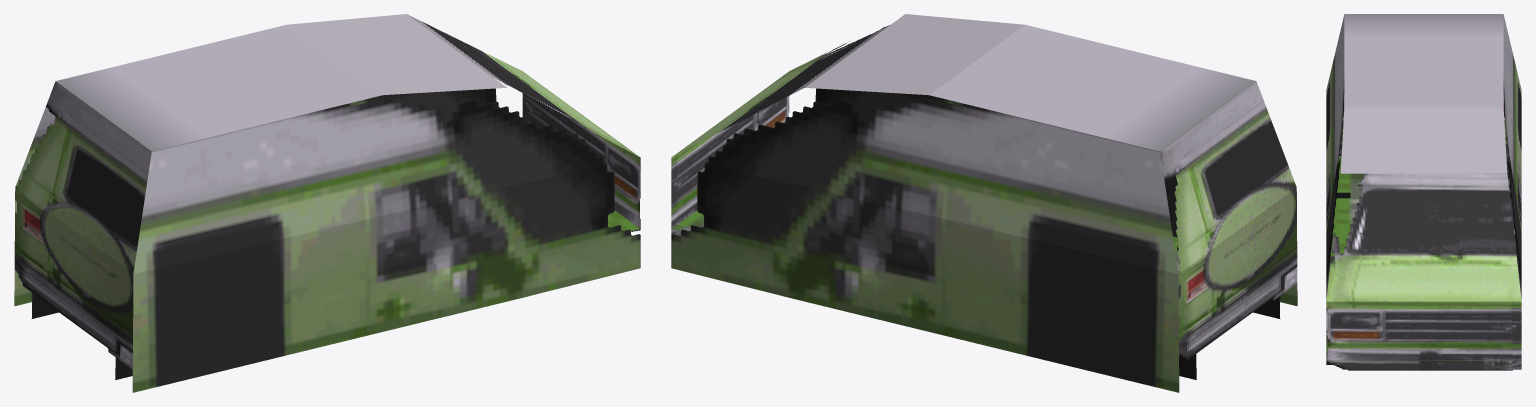
Rendered from _vandura.obj.
3 views of the same model, side by side, from view 1: azimuth 30°, elevation 25°; view 2: azimuth 150°, elevation 25°; view 3: azimuth 270°, elevation 25° (orthographic). The views are drawn at different scales.
Bounding box in the file's own units: 641 × 272 × 258.
1 material, 1 textured.
